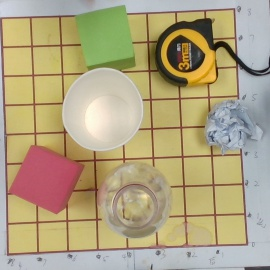bottle: (99, 164, 172, 236)
cup: (62, 68, 143, 151)
